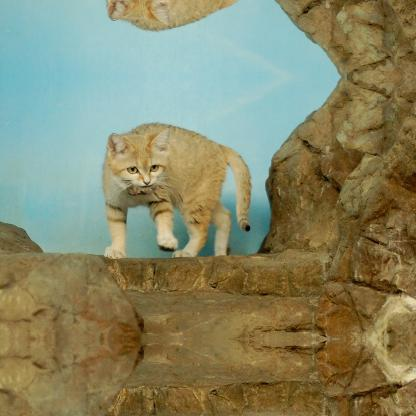Cat: (101, 121, 251, 256), (101, 0, 252, 32)
